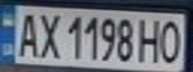1: (60, 11, 84, 60), (81, 12, 100, 61)
8: (115, 15, 139, 63)
9: (97, 14, 118, 62)
A: (12, 9, 42, 58)
H: (136, 16, 163, 63)
O: (157, 16, 187, 64)
X: (36, 9, 63, 60)
